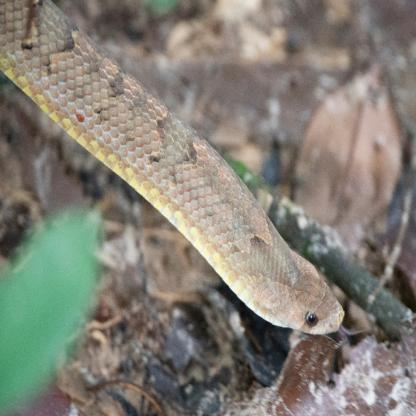Snake: (0, 0, 344, 339)
